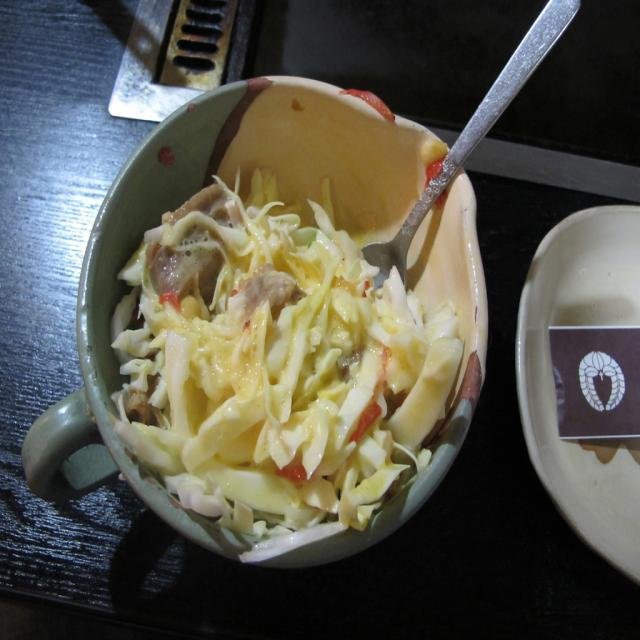ceramic plate: (66, 54, 486, 578)
